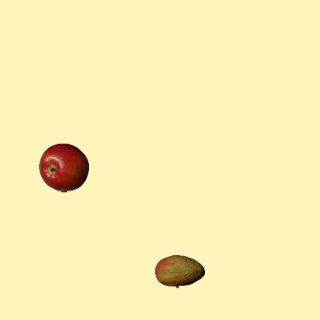Apple Braeburn: (38, 142, 88, 192)
Papaya: (154, 246, 204, 296)
